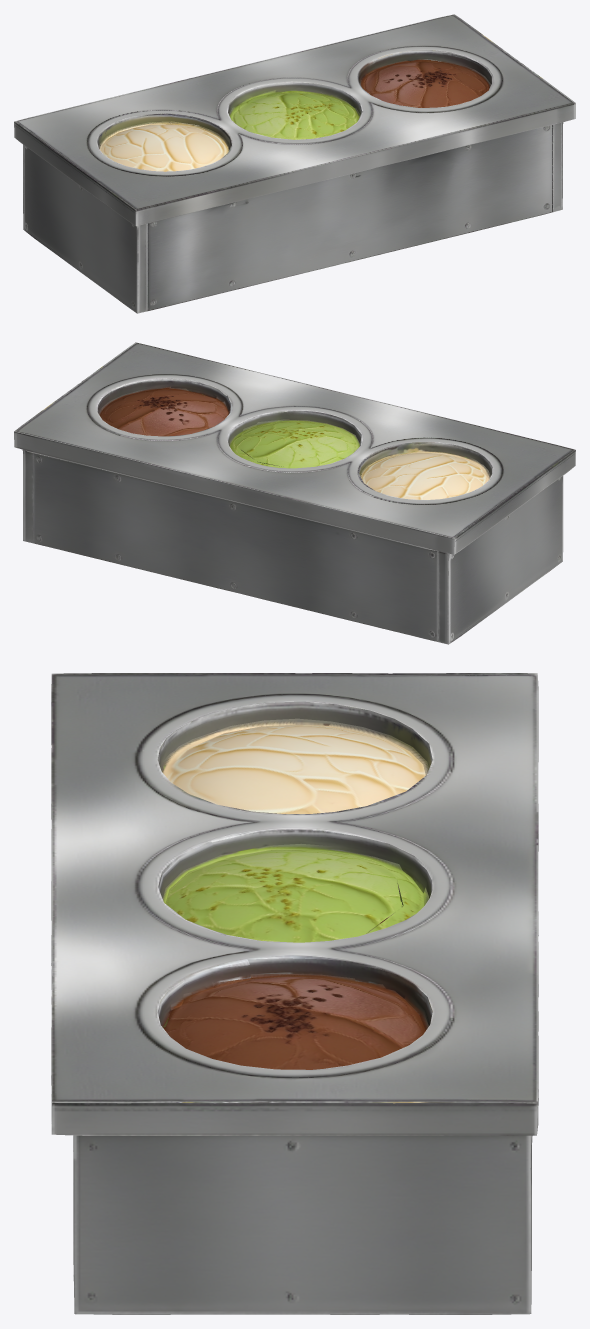
The model's file is Meshy_AI_Triple_Flavor_Gelato__0616013444_texture.fbx.
3 views of the same model, one above another, from view 1: azimuth 30°, elevation 25°; view 2: azimuth 150°, elevation 25°; view 3: azimuth 270°, elevation 25° (orthographic). The views are drawn at different scales.
Parts seen in each view (by area): view 1: Mesh0; view 2: Mesh0; view 3: Mesh0.
Part boxes in pixels (x1,y1,x2,y2): Mesh0: (14,14,575,313); Mesh0: (14,342,575,644); Mesh0: (51,673,538,1314).
Bounding box in the file's own units: 191 × 46.92 × 91.47.
1 material, 1 textured.
